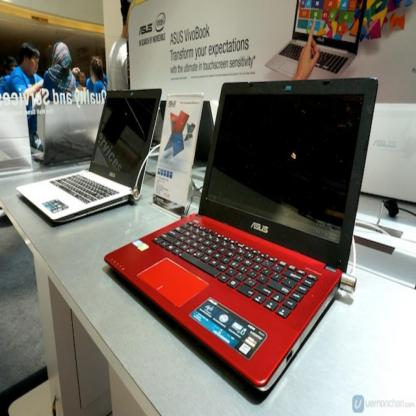board: (110, 72, 378, 398), (17, 90, 162, 224), (263, 0, 366, 78), (361, 104, 415, 202), (31, 100, 105, 166), (165, 134, 184, 156), (171, 112, 189, 133)
